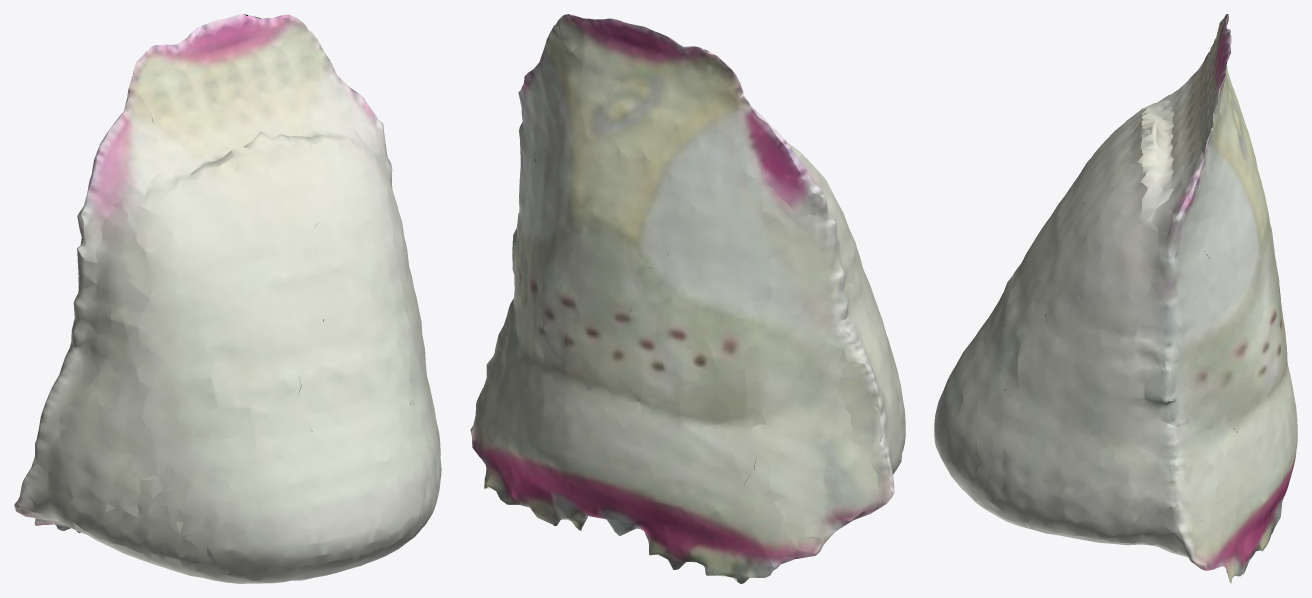
The picture shows the model from 3 angles, left to right: view 1: azimuth 30°, elevation 25°; view 2: azimuth 150°, elevation 25°; view 3: azimuth 270°, elevation 25°; orthographic projection. The views are drawn at different scales.
Parts seen in each view (by area): view 1: world; view 2: world; view 3: world.
Boxes of the visible parts, box(x1,y1,x2,y2) form: world: box(14, 14, 441, 583); world: box(470, 14, 905, 583); world: box(934, 14, 1297, 583).
Bounding box in the file's own units: 0.7264 × 0.8546 × 0.5746.
1 material, 1 textured.
